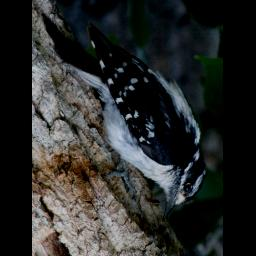Woodpecker: (38, 13, 210, 221)
